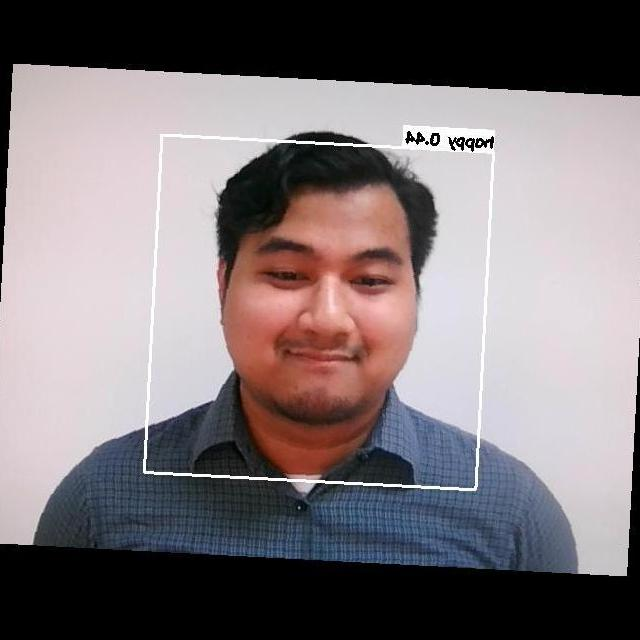Happy: (225, 205, 429, 404)
